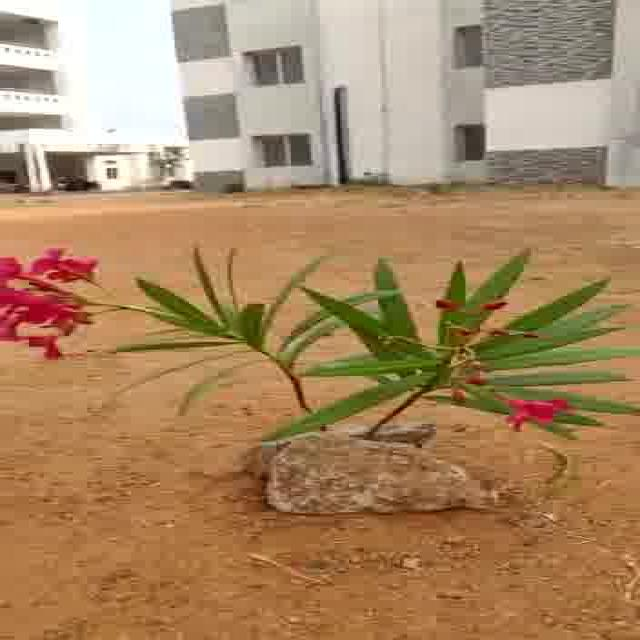Oleander: (0, 249, 640, 424)
